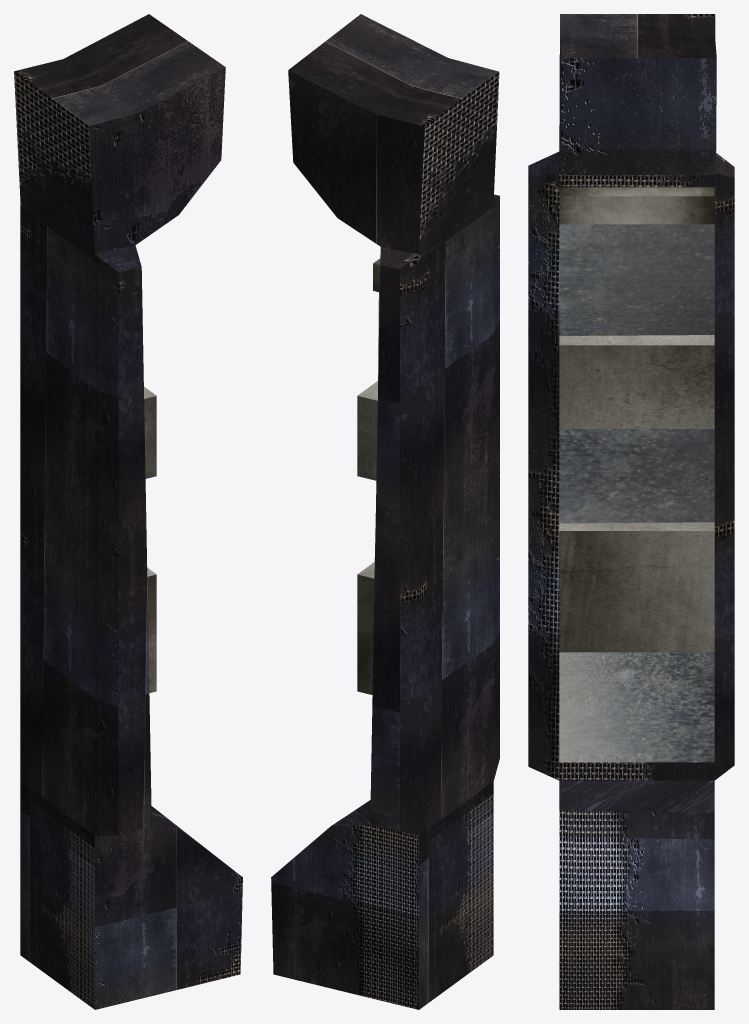
File: Arena_Light.fbx
3 renders of one model, left to right at view 1: azimuth 30°, elevation 25°; view 2: azimuth 150°, elevation 25°; view 3: azimuth 270°, elevation 25°, orthographic. The views are drawn at different scales.
Visible parts, largest first — view 1: LightHolder, MetalHolder; view 2: LightHolder, MetalHolder; view 3: LightHolder, LightGlass, MetalHolder.
Part boxes in pixels (x1=…): LightHolder: x1=14, y1=14, x2=242, y2=1009; MetalHolder: x1=140, y1=263, x2=156, y2=693; LightHolder: x1=271, y1=14, x2=499, y2=1009; MetalHolder: x1=357, y1=258, x2=380, y2=694; LightHolder: x1=528, y1=14, x2=734, y2=1009; LightGlass: x1=559, y1=224, x2=714, y2=762; MetalHolder: x1=559, y1=187, x2=714, y2=652.
Size of the model in its own units: 1.19 by 6.72 by 1.33.
